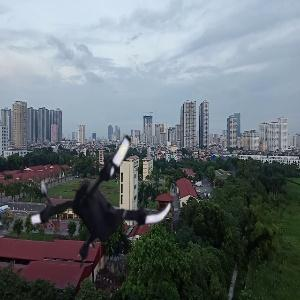drone: (16, 128, 176, 288)
